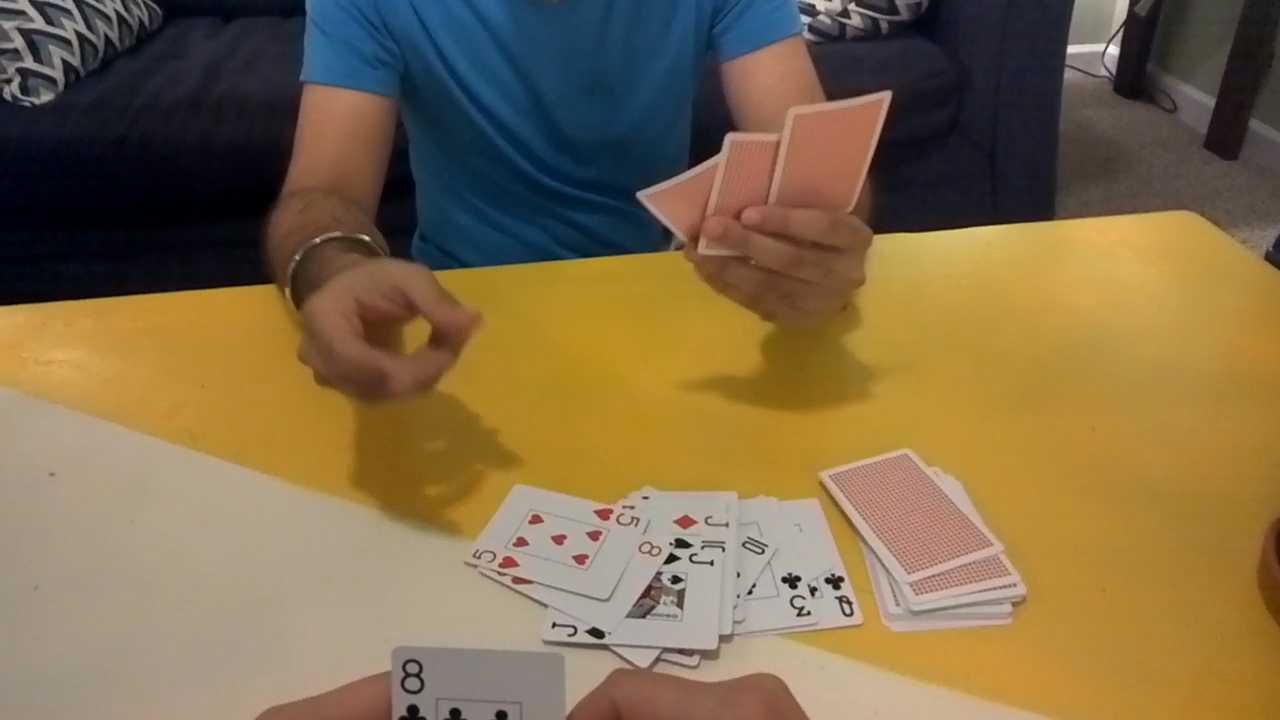hand: (288, 255, 475, 397), (676, 204, 884, 331), (566, 668, 791, 717), (265, 666, 396, 717)
